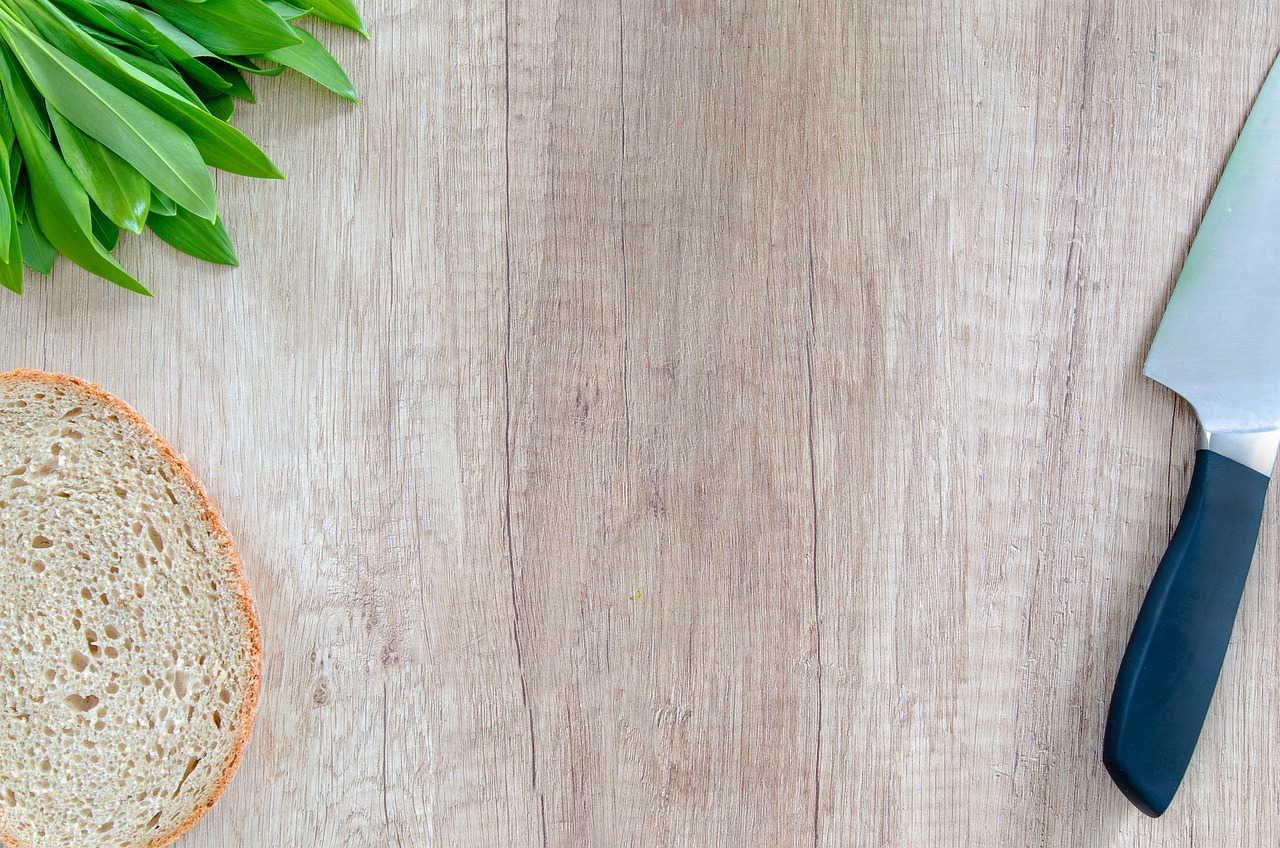knife: (1096, 50, 1275, 833)
